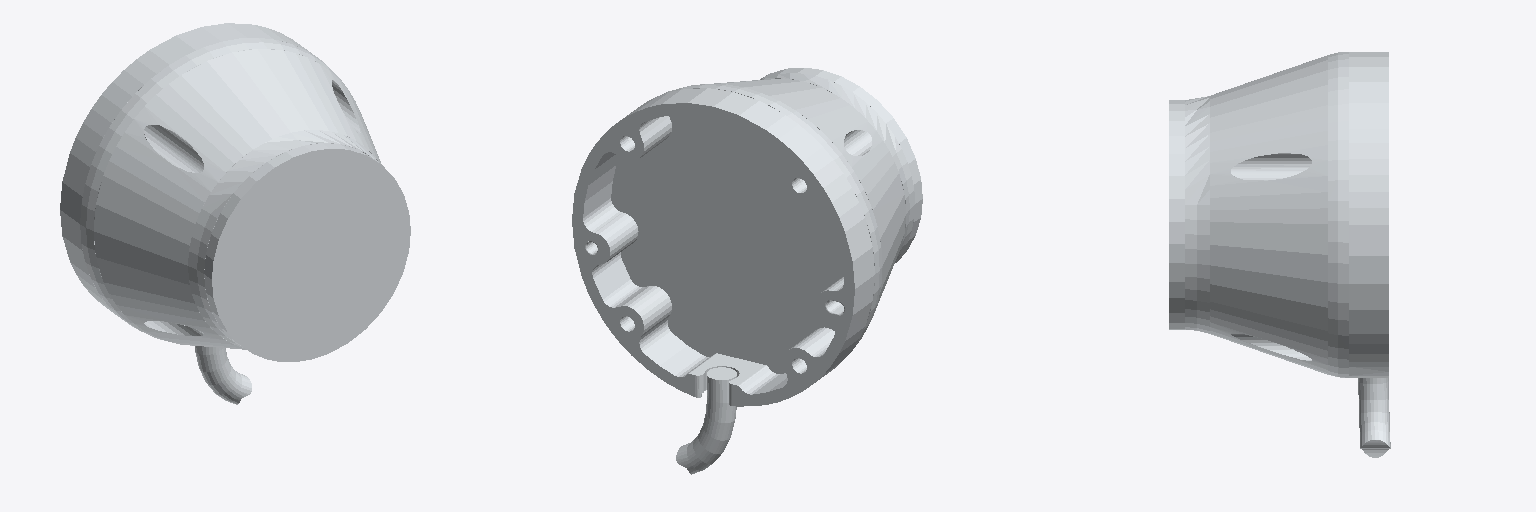
File: GROUND_m.obj
3 renders of one model, left to right at view 1: azimuth 30°, elevation 25°; view 2: azimuth 150°, elevation 25°; view 3: azimuth 270°, elevation 25°, orthographic.
Bounding box in the file's own units: 0.128 × 0.1635 × 0.0868.